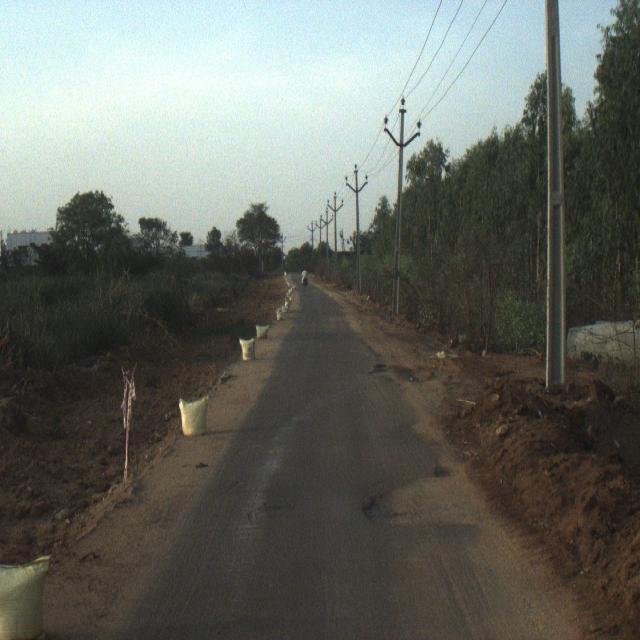Pothole: (365, 462, 480, 535), (370, 351, 405, 384)
